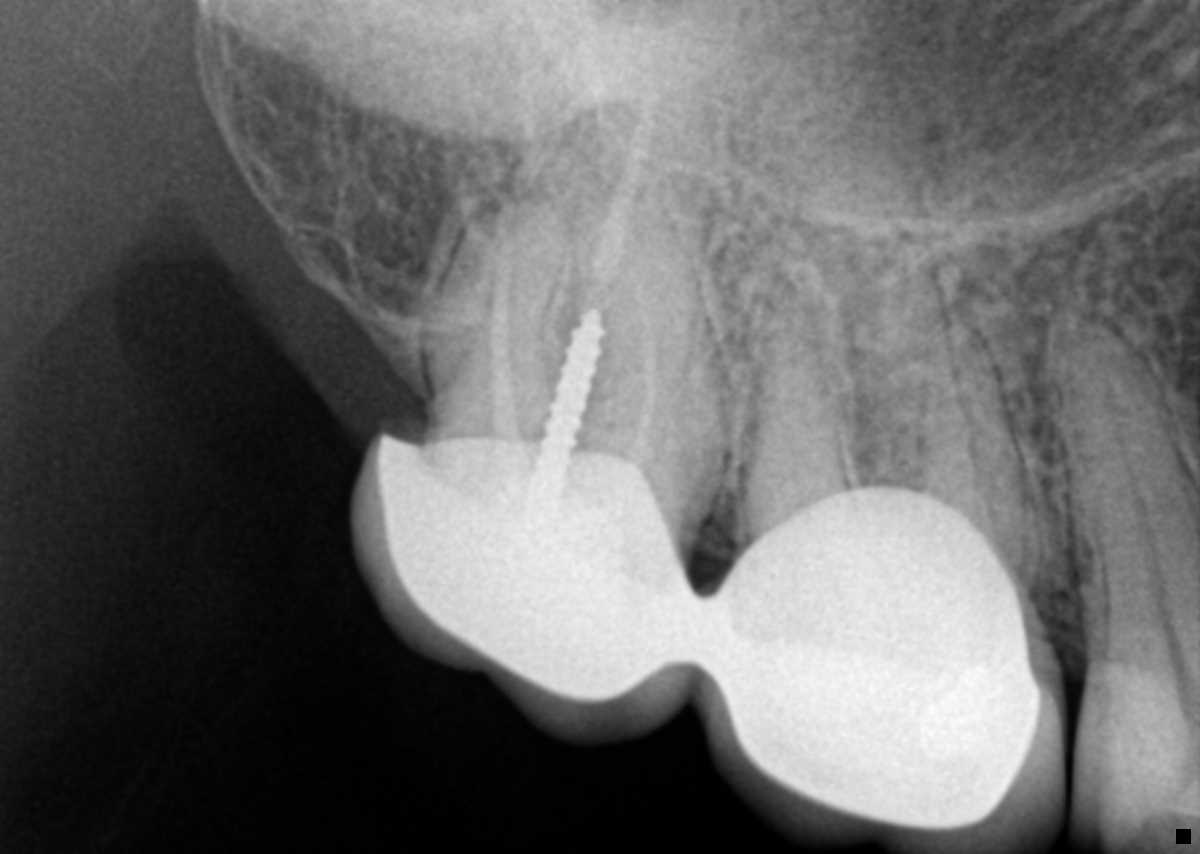Apical Lesion: (1010, 240, 1143, 444), (716, 214, 870, 355), (436, 182, 533, 258)
Distal Root: (425, 199, 567, 431), (737, 298, 849, 548)
Main Canal: (1105, 378, 1177, 646)
Main Root: (1043, 308, 1200, 654)
Mesial Root: (913, 326, 1033, 578), (582, 236, 696, 483)
Palatal Root: (439, 10, 719, 456), (745, 138, 989, 525)
Root Canal Filling: (490, 232, 527, 445), (632, 281, 661, 468)
